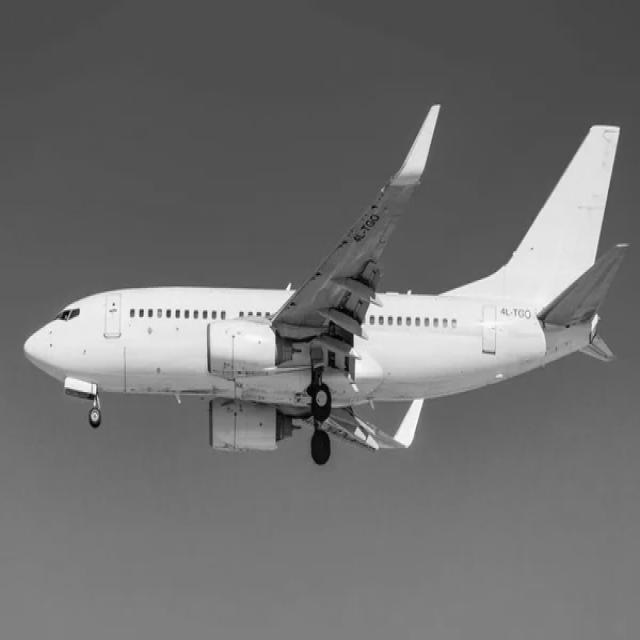Aircraft: (17, 87, 632, 461)
